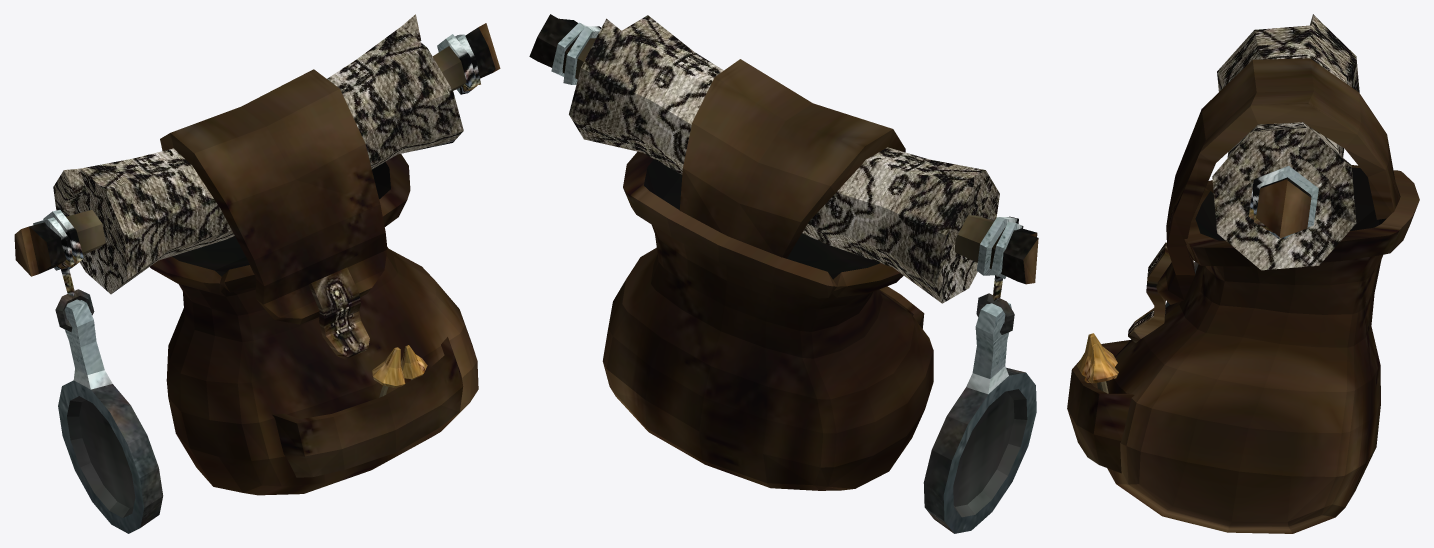
File: STATIC_PLECAK3.glb
3 renders of one model, left to right at view 1: azimuth 30°, elevation 25°; view 2: azimuth 150°, elevation 25°; view 3: azimuth 270°, elevation 25°, orthographic. The views are drawn at different scales.
Parts seen in each view (by area): view 1: STATIC_PLECAK3; view 2: STATIC_PLECAK3; view 3: STATIC_PLECAK3.
Part boxes in pixels (x1,y1,x2,y2): STATIC_PLECAK3: (14,14,500,533); STATIC_PLECAK3: (529,14,1038,533); STATIC_PLECAK3: (1067,14,1419,533).
Size of the model in its own units: 0.5909 by 0.4977 by 0.3338.
3 materials, 3 textured.
